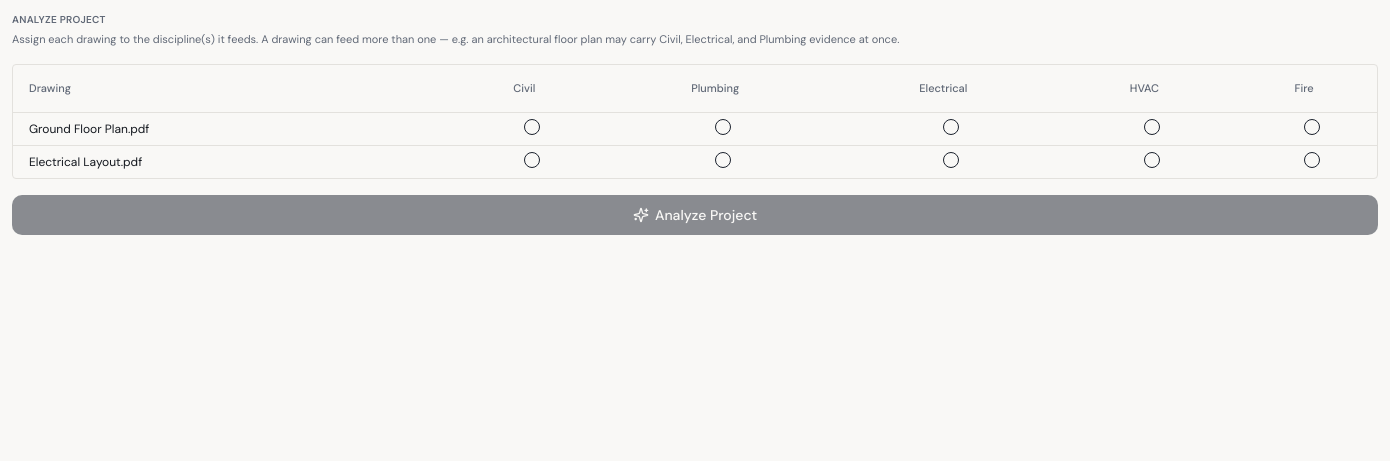
Test: WorkspaceAnalyzePanel — Coverage readiness summary › G: a Civil-only Coverage count never shows a gap badge for Electrical's own row
Expected: the text "Ground Floor Plan.pdf" is shown, x1=13 y1=112 x2=447 y2=146
Click the checkbox named "Assign Ground Floor Plan.pdf to Civil Works" at [532, 127], box x1=524 y1=119 x2=540 y2=135
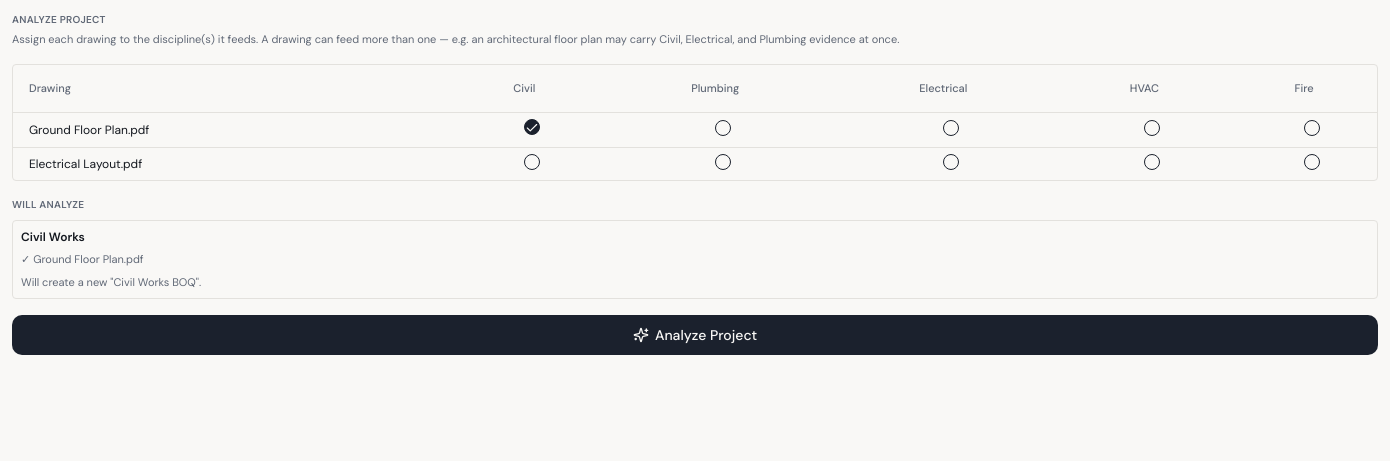
Click the checkbox named "Assign Electrical Layout.pdf to Electrical Works" at [951, 162], box x1=943 y1=154 x2=959 y2=170
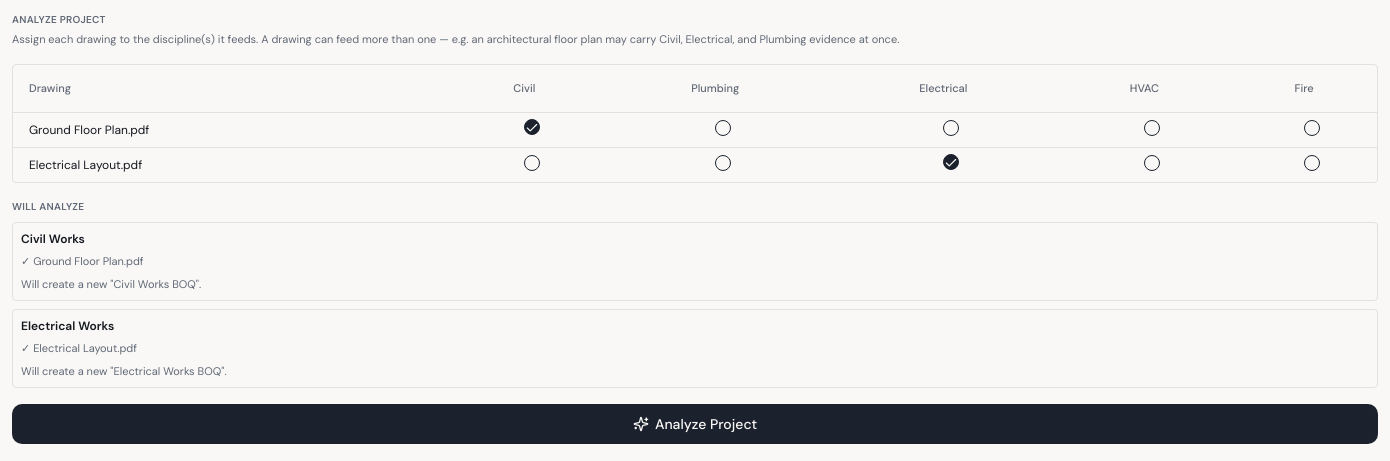
Click the button "Analyze Project" at [695, 424], box x1=12 y1=404 x2=1378 y2=444
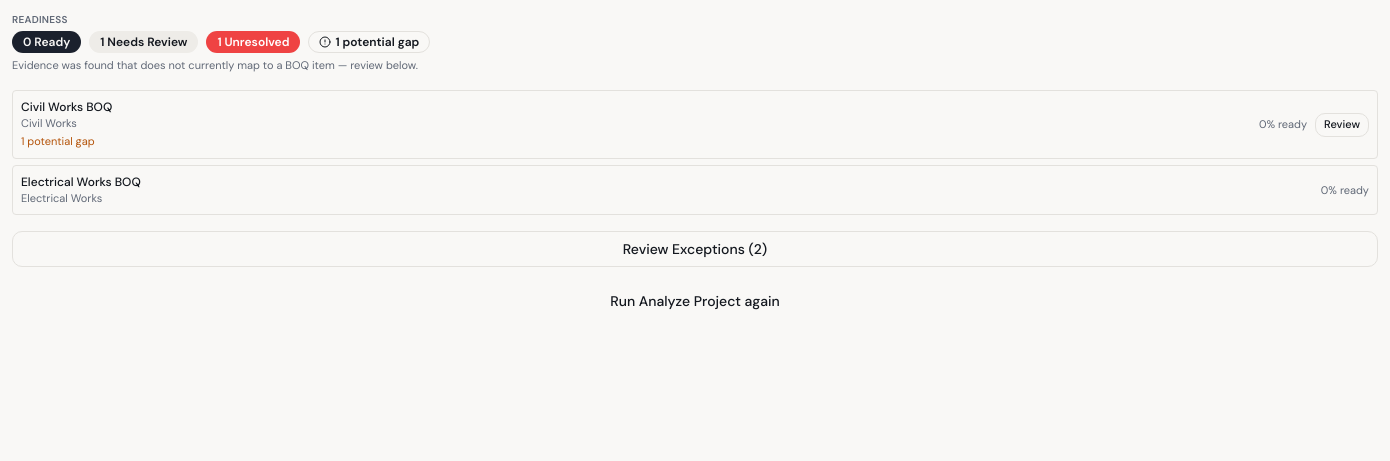
Result: the text "0 Ready" is shown at x1=12 y1=31 x2=81 y2=53
Result: the text "1 potential gap" is shown at x1=21 y1=134 x2=95 y2=148
